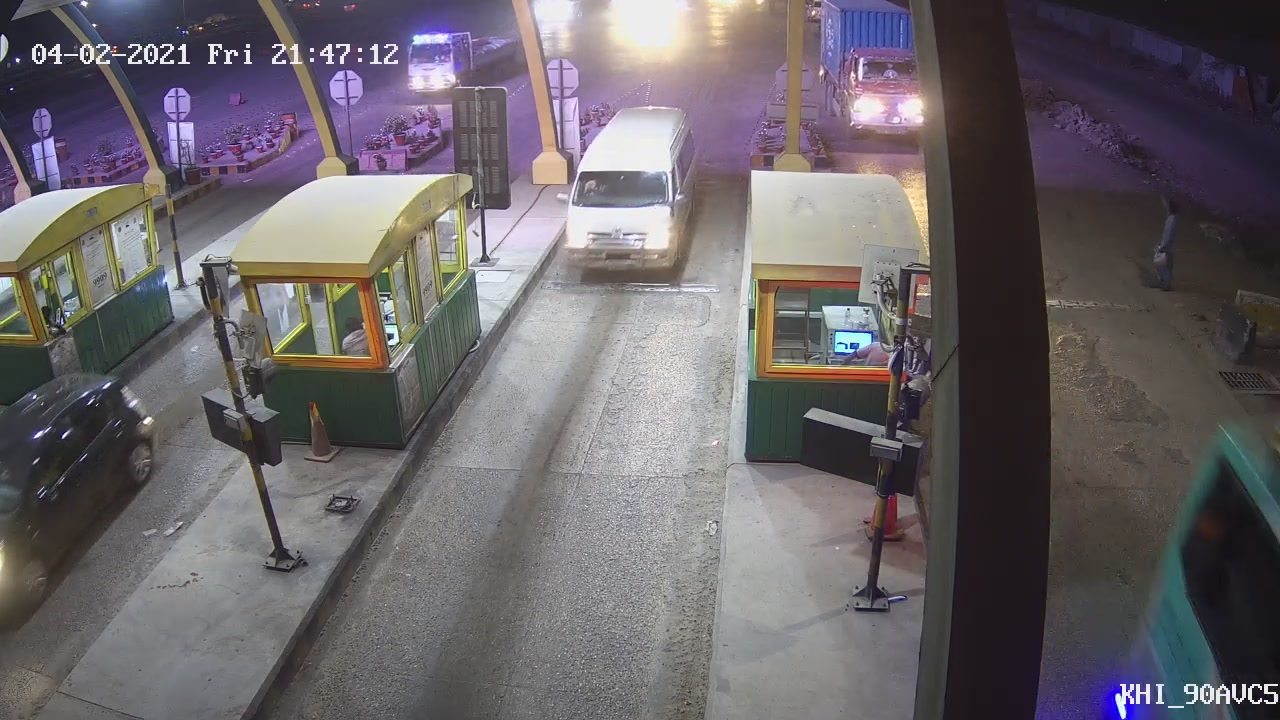F2: (559, 102, 705, 274)
